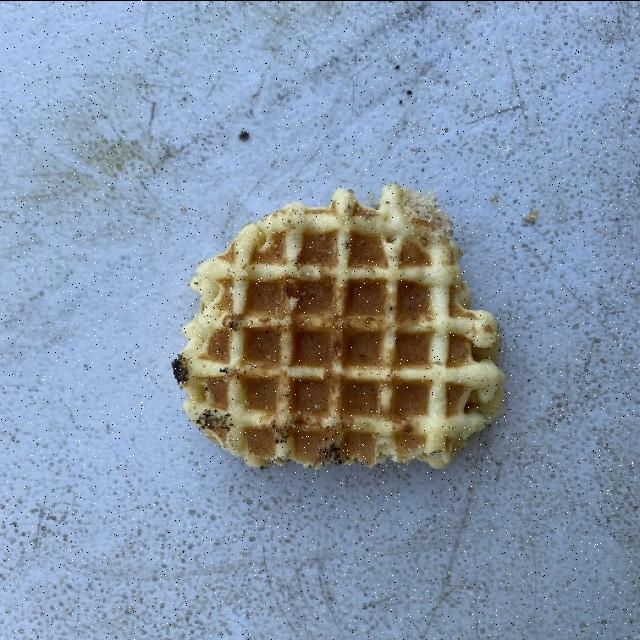organik: (168, 165, 522, 498)
